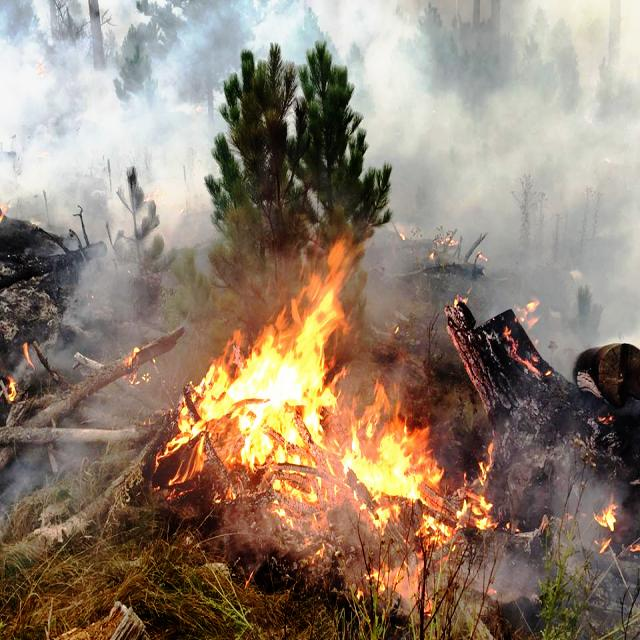api: (230, 275, 350, 502), (358, 422, 438, 536)
asap: (355, 1, 637, 333), (21, 13, 217, 253)
